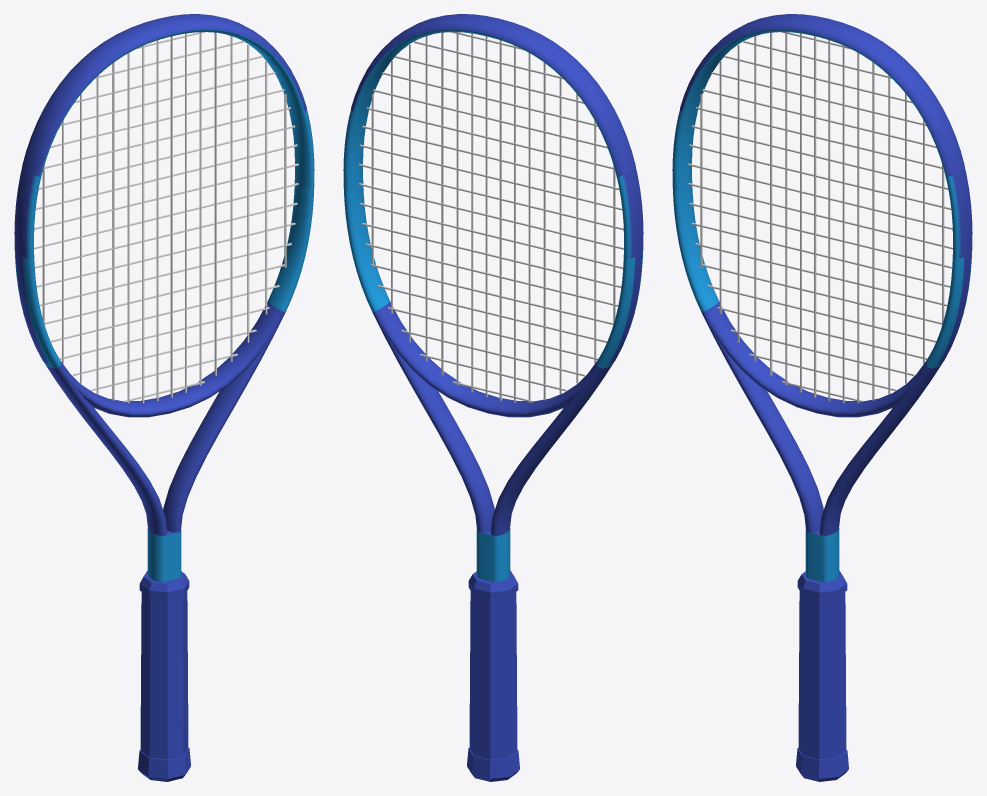
The model's file is prince-ripcord-26-junior.glb.
3 views of the same model, side by side, from view 1: azimuth 30°, elevation 25°; view 2: azimuth 150°, elevation 25°; view 3: azimuth 330°, elevation 25° (orthographic).
Visible parts, largest first — view 1: frame, strings_mains, strings_crosses, grip, bumper, grommets, butt_cap, collar; view 2: frame, strings_mains, strings_crosses, grip, bumper, grommets, butt_cap, collar; view 3: frame, strings_mains, strings_crosses, grip, bumper, grommets, butt_cap, collar.
Boxes of the visible parts, x1,y1,x2,y2 form: frame: (14, 29, 314, 582); strings_mains: (42, 32, 286, 403); strings_crosses: (34, 32, 298, 402); grip: (140, 591, 188, 759); bumper: (22, 14, 306, 176); grommets: (15, 168, 48, 364); butt_cap: (138, 747, 190, 781); collar: (139, 570, 189, 599); frame: (343, 29, 643, 582); strings_mains: (371, 32, 615, 402); strings_crosses: (358, 32, 623, 402); grip: (469, 591, 517, 759); bumper: (351, 14, 635, 176); grommets: (609, 168, 642, 364); butt_cap: (467, 747, 519, 781); collar: (468, 570, 518, 599); frame: (672, 29, 972, 582); strings_mains: (700, 32, 944, 403); strings_crosses: (688, 32, 952, 402); grip: (798, 591, 846, 759); bumper: (680, 14, 964, 176); grommets: (938, 168, 971, 364); butt_cap: (796, 747, 848, 781); collar: (797, 570, 847, 599).
Bounding box in the file's own units: 0.2696 × 0.6607 × 0.0396.
